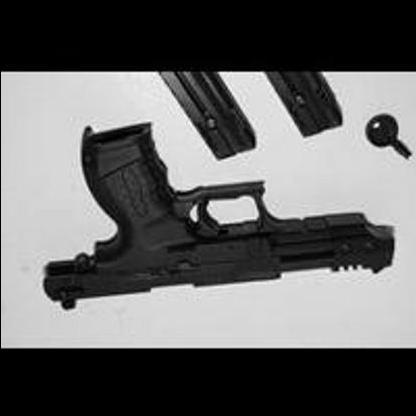weapon: (39, 120, 401, 311)
